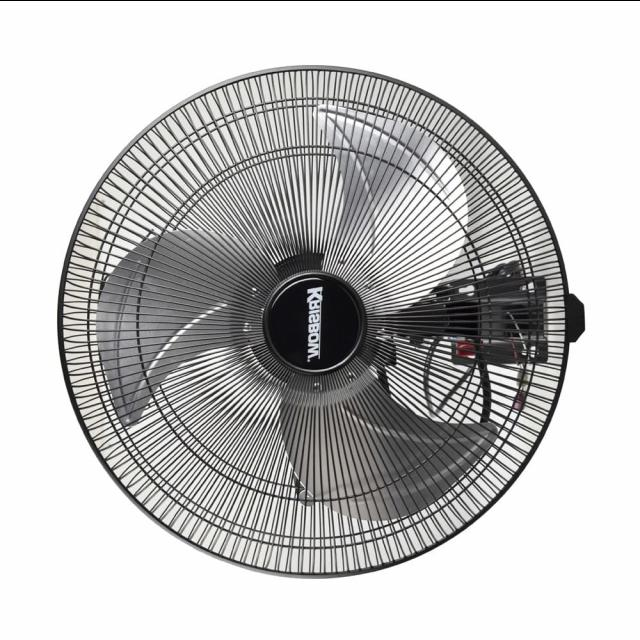fan: (54, 43, 586, 585)
